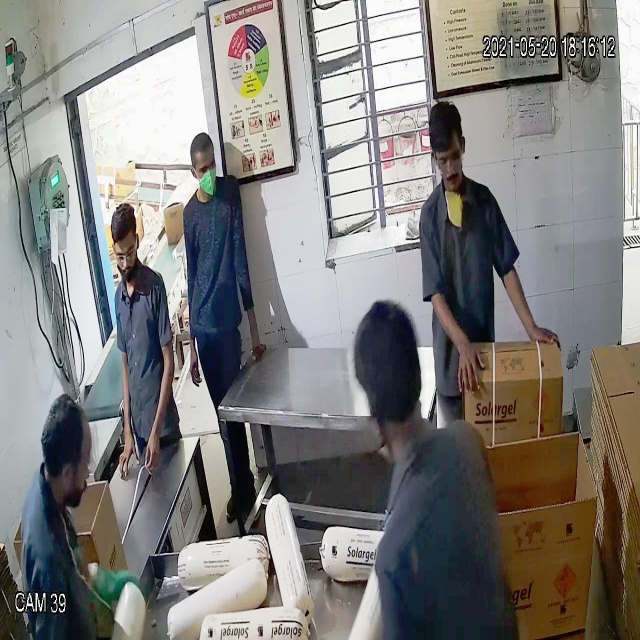Gafas: (109, 241, 141, 268)
